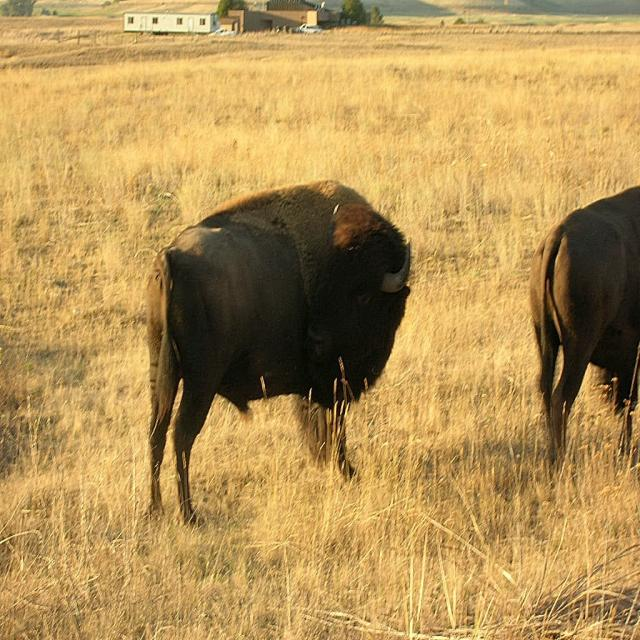Bull: (144, 178, 413, 530), (529, 184, 640, 508)
